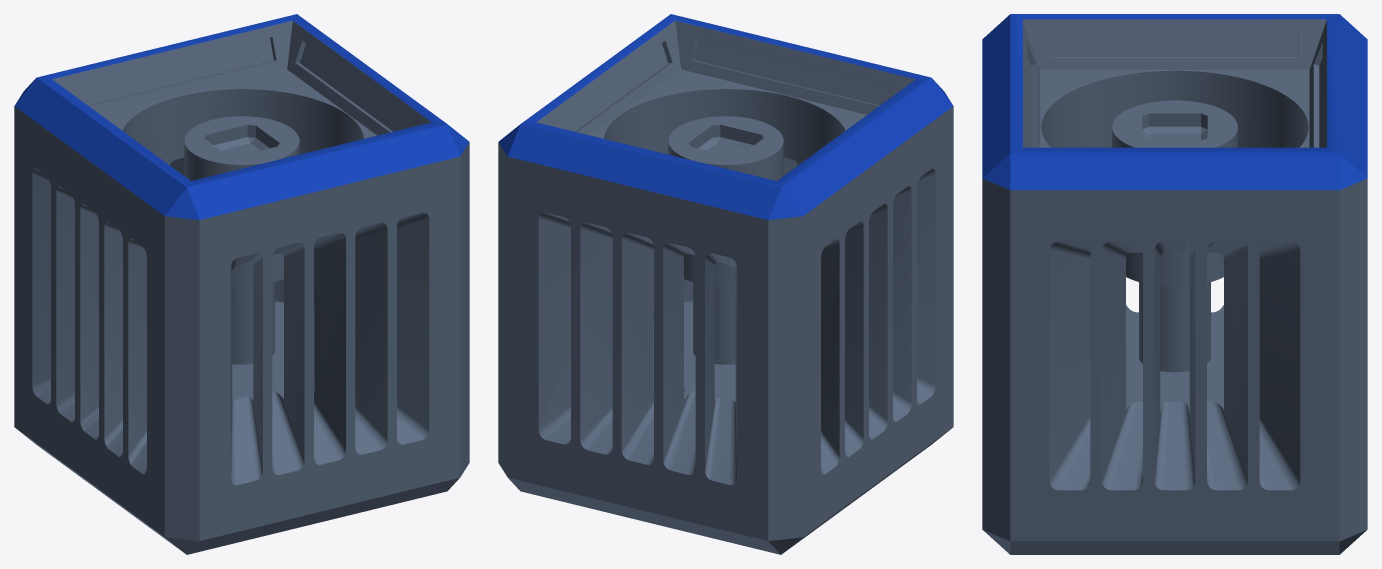
Rendered from gizmo.glb.
The picture shows the model from 3 angles, left to right: view 1: azimuth 30°, elevation 25°; view 2: azimuth 150°, elevation 25°; view 3: azimuth 270°, elevation 25°; orthographic projection. The views are drawn at different scales.
Visible parts, largest first — view 1: Cube; view 2: Cube; view 3: Cube.
Part boxes in pixels (bbox=[...]): Cube: bbox=[14, 14, 469, 554]; Cube: bbox=[498, 14, 953, 554]; Cube: bbox=[982, 14, 1367, 554].
Size of the model in its own units: 1.74 by 2 by 1.74.
